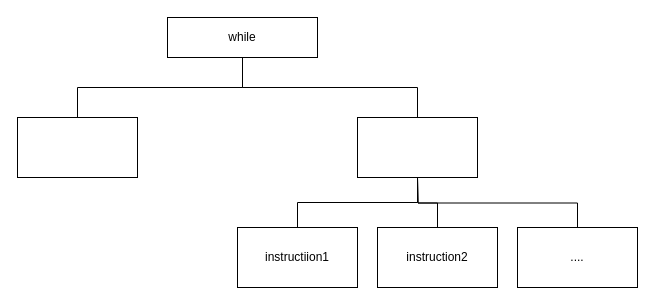
Some shapes in this 655 by 305 pixel diagram are drawn without their labels. The centre of each missing label's shape, as x and y in pixels:
condition: (x=77, y=147)
faire: (x=417, y=147)
